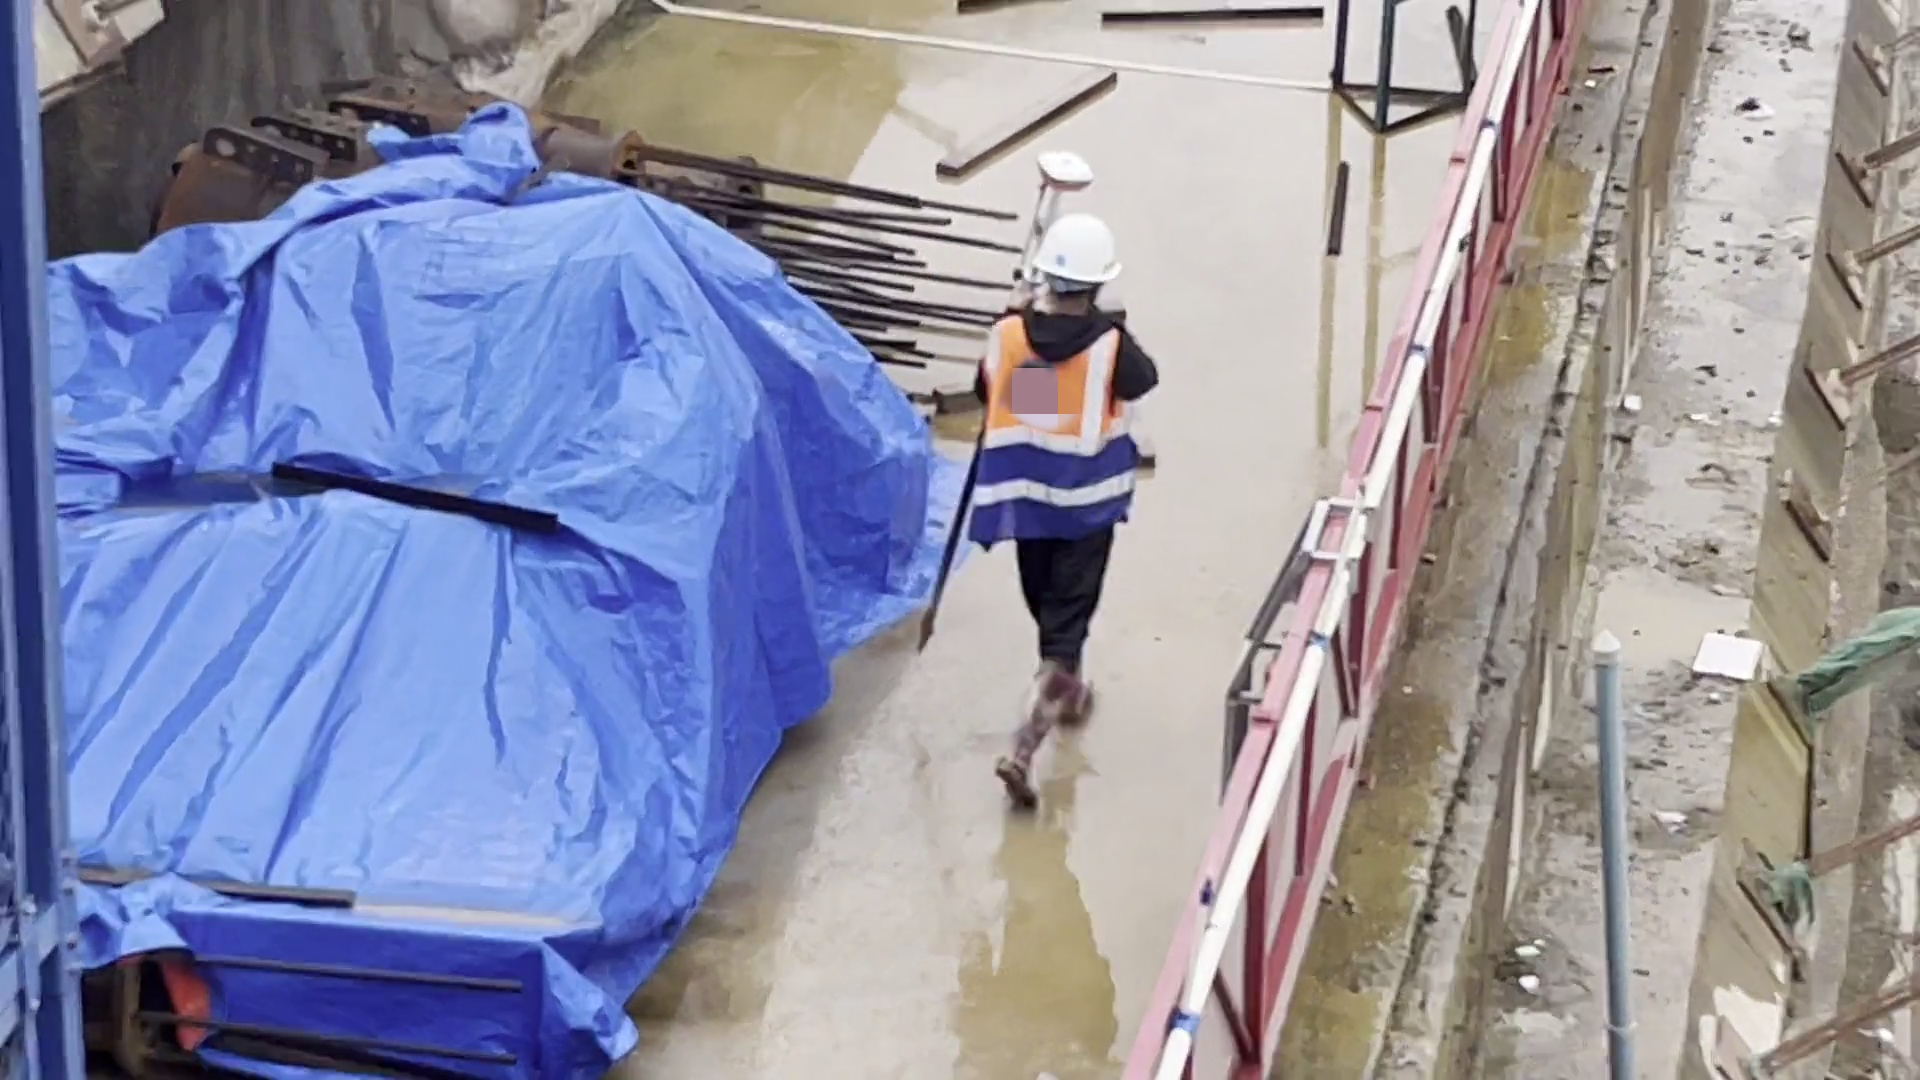fence: (1354, 1, 1591, 476), (1115, 700, 1315, 1080), (1271, 420, 1431, 842)
helmet: (1032, 207, 1131, 296)
person: (965, 210, 1150, 829)
vest: (961, 309, 1152, 565)
